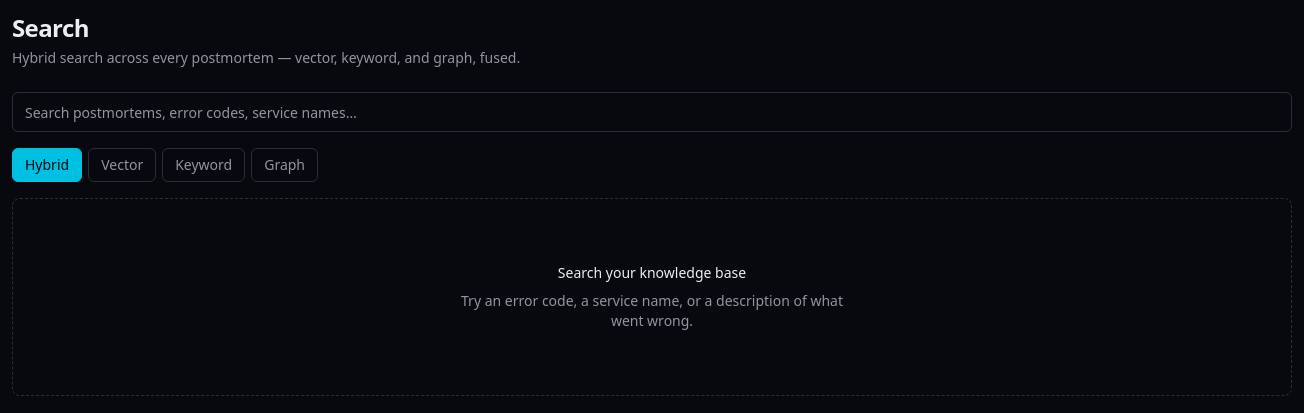
Test: Search › shows a distinct empty state when a query returns zero results
Type "nothing matches" into the field named "Search query" at (652, 112), box [12,92,1292,132]
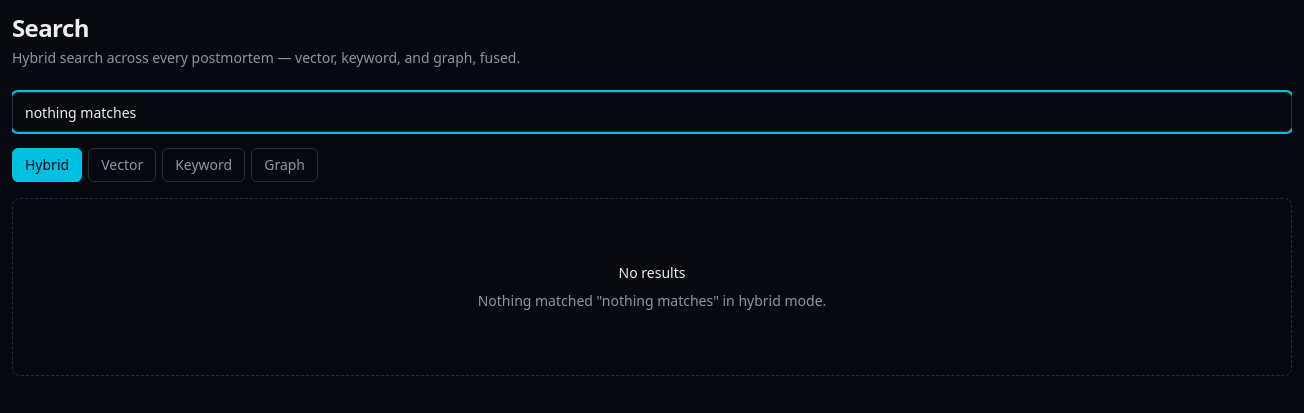
Now the text "No results" is shown, box [618,263,685,283]
